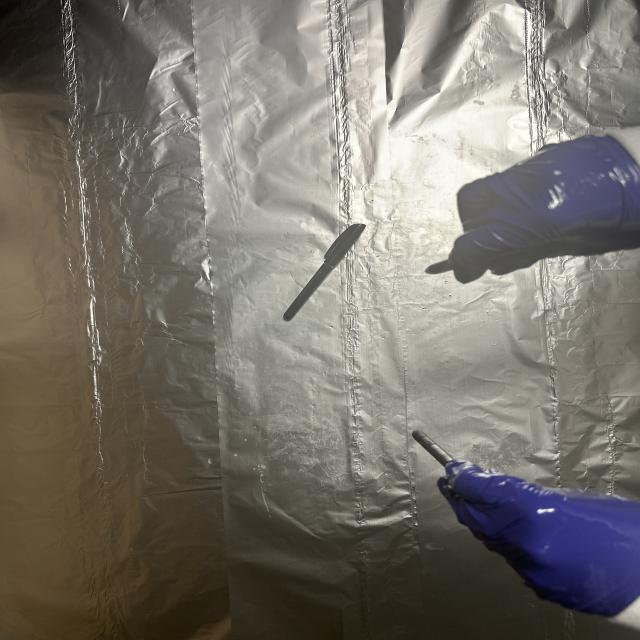gloves_contaminated: (438, 461, 640, 616), (448, 136, 640, 283)
